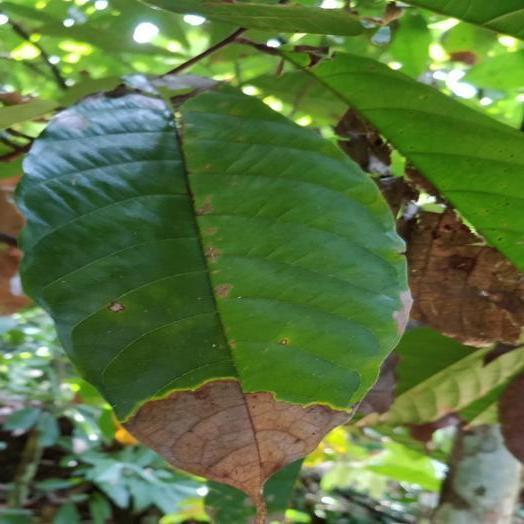Potassium: (18, 75, 410, 523)
